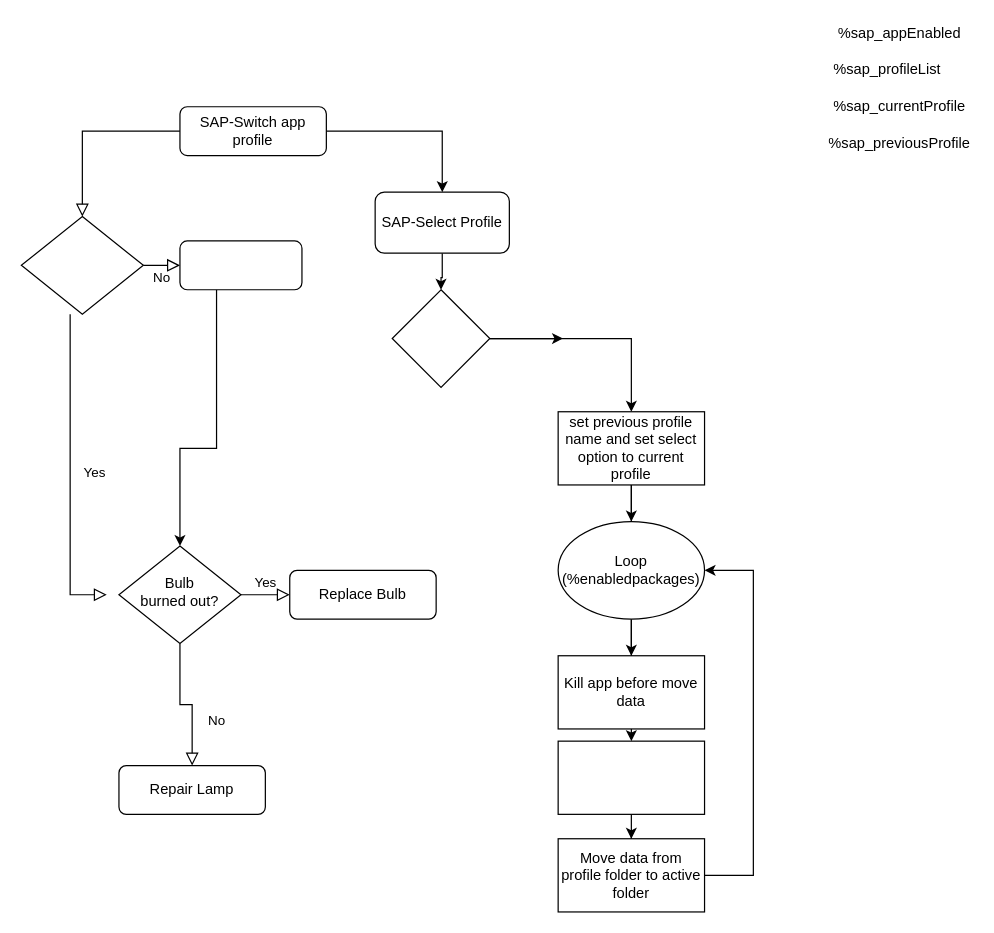
Image size: 994x933. Some labels were removed from this diagram. Here are the shapes that lost their labels. From the top down, the centre of each, then its label:
the point at 81,264: Is app list already available?
the point at 240,265: SAP-App Selection
the point at 440,338: Select new profile
the point at 631,777: Move active folder (/data/user/0/appname/) to previous profile folder
